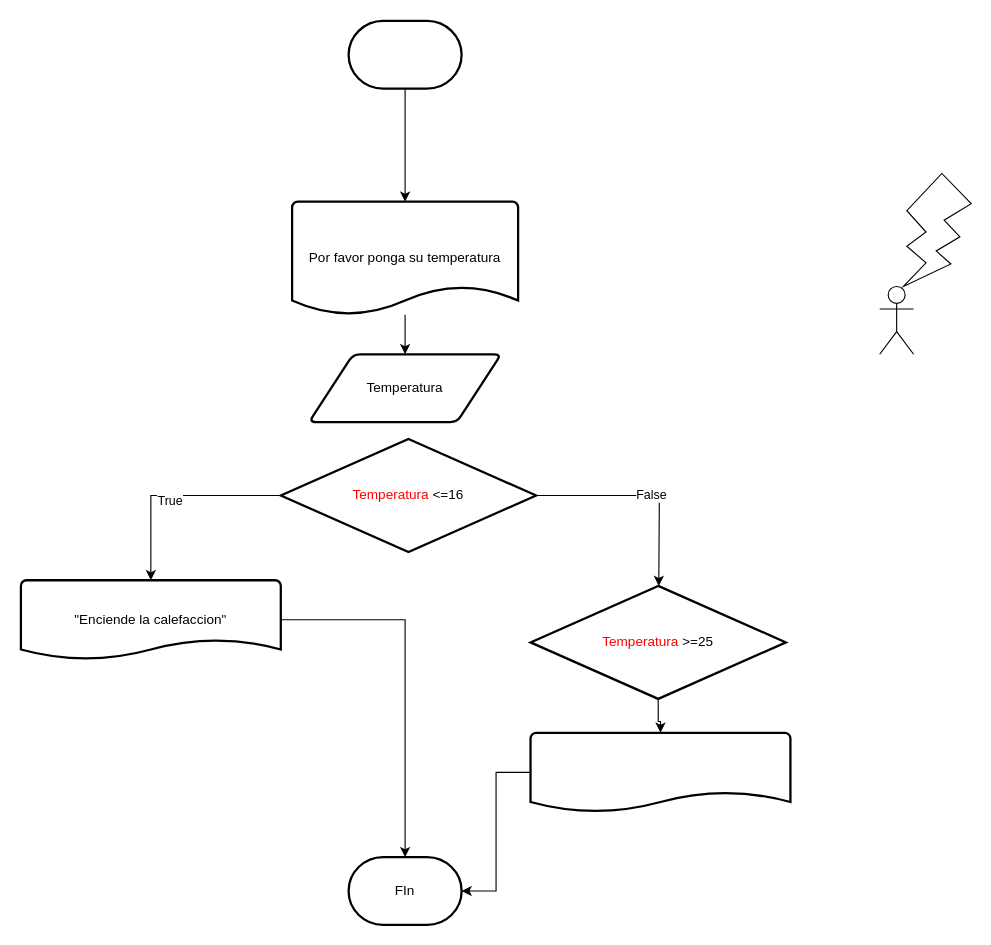
Image size: 991x945. Some labels were removed from this diagram. Each missing label, with the centre of its shape:
"Enciende el aire": point (660, 771)
Inicio: point (404, 54)
Recursos muriendo: point (896, 319)
